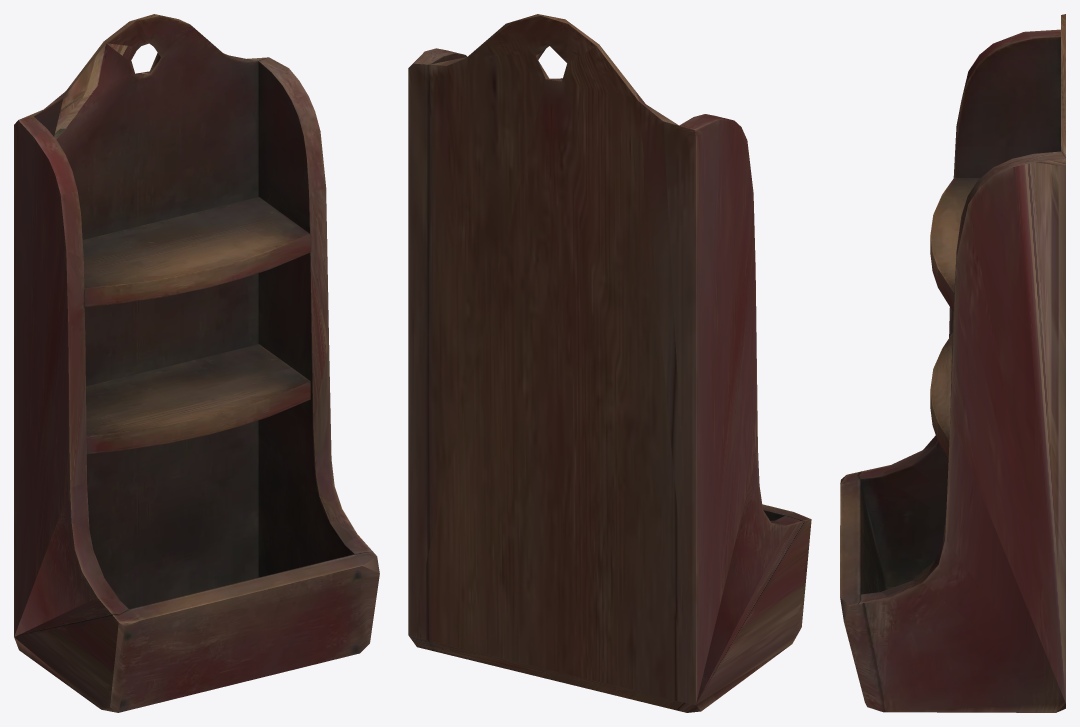
File: painted-wooden-shelves.glb
3 views of the same model, side by side, from view 1: azimuth 30°, elevation 25°; view 2: azimuth 150°, elevation 25°; view 3: azimuth 270°, elevation 25° (orthographic). The views are drawn at different scales.
Parts seen in each view (by area): view 1: painted_wooden_shelves; view 2: painted_wooden_shelves; view 3: painted_wooden_shelves.
Part boxes in pixels (x1,y1,x2,y2): painted_wooden_shelves: [14, 14, 379, 712]; painted_wooden_shelves: [408, 14, 811, 712]; painted_wooden_shelves: [840, 14, 1065, 712].
Bounding box in the file's own units: 0.511 × 1.12 × 0.367.
1 material, 1 textured.
